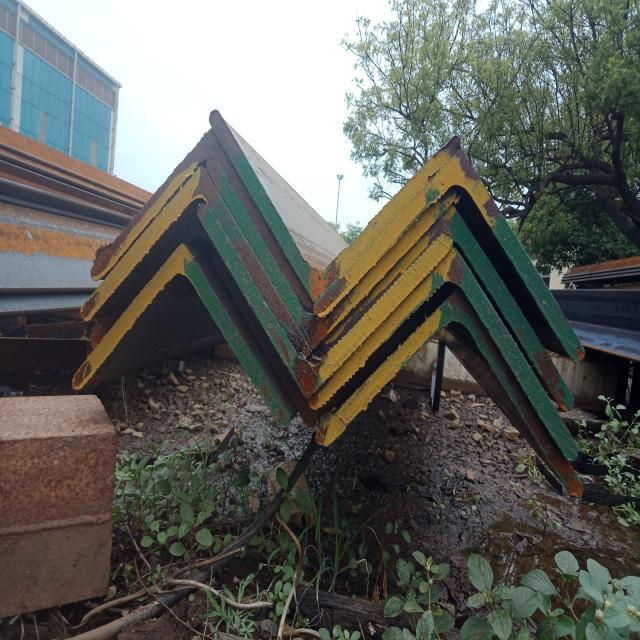metal-angles: (313, 148, 586, 363), (309, 248, 578, 461), (316, 287, 584, 499), (309, 203, 574, 411), (197, 203, 453, 399), (209, 110, 461, 302), (206, 159, 457, 350), (80, 167, 311, 359), (90, 127, 315, 314), (71, 242, 291, 428)
